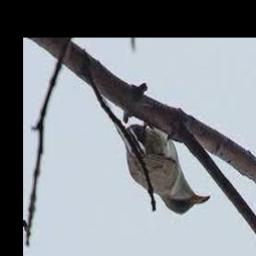Cuckoo: (121, 125, 209, 216)
